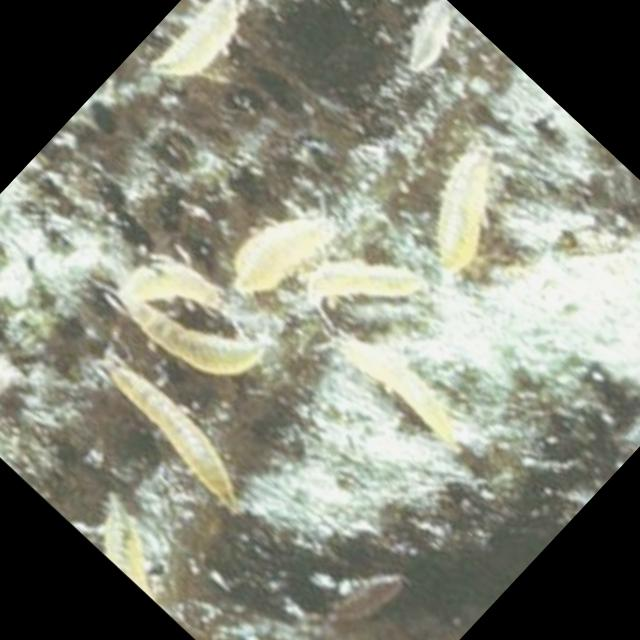melon thrips: (62, 312, 290, 536), (356, 102, 574, 321), (294, 266, 508, 478), (93, 240, 294, 437), (55, 446, 238, 626), (196, 148, 374, 329), (289, 195, 457, 363), (101, 192, 268, 357), (130, 0, 287, 132), (356, 0, 472, 99)
